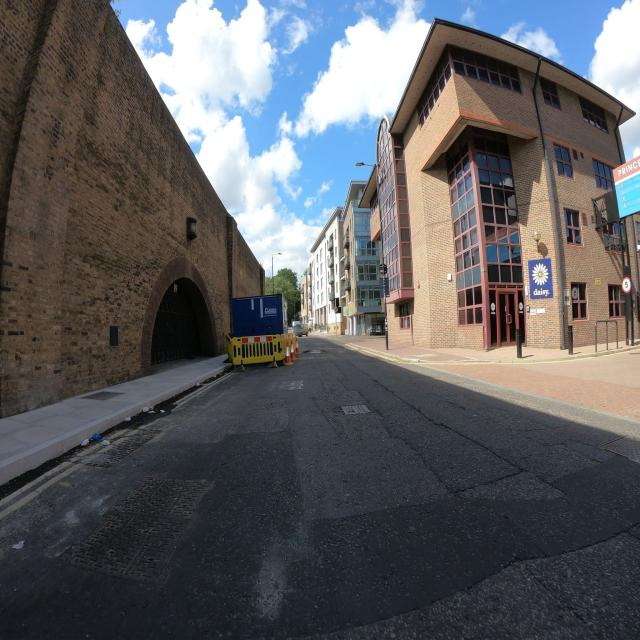car: (291, 321, 304, 337), (368, 322, 383, 335)
